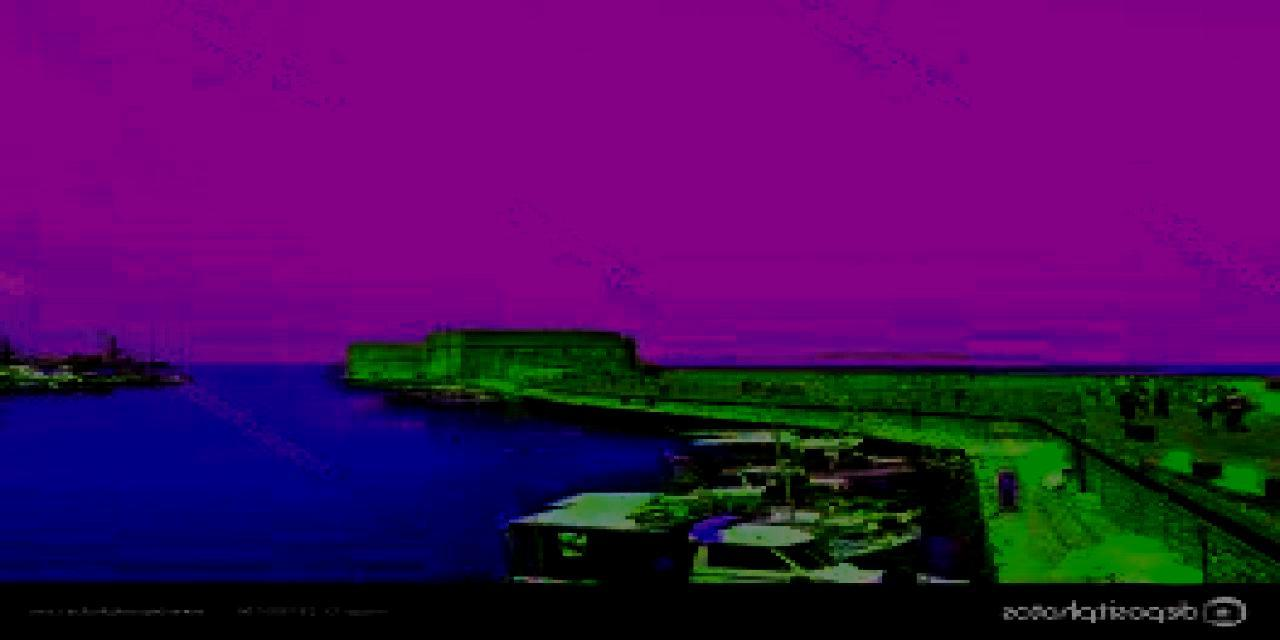Kules: (334, 329, 637, 388)
